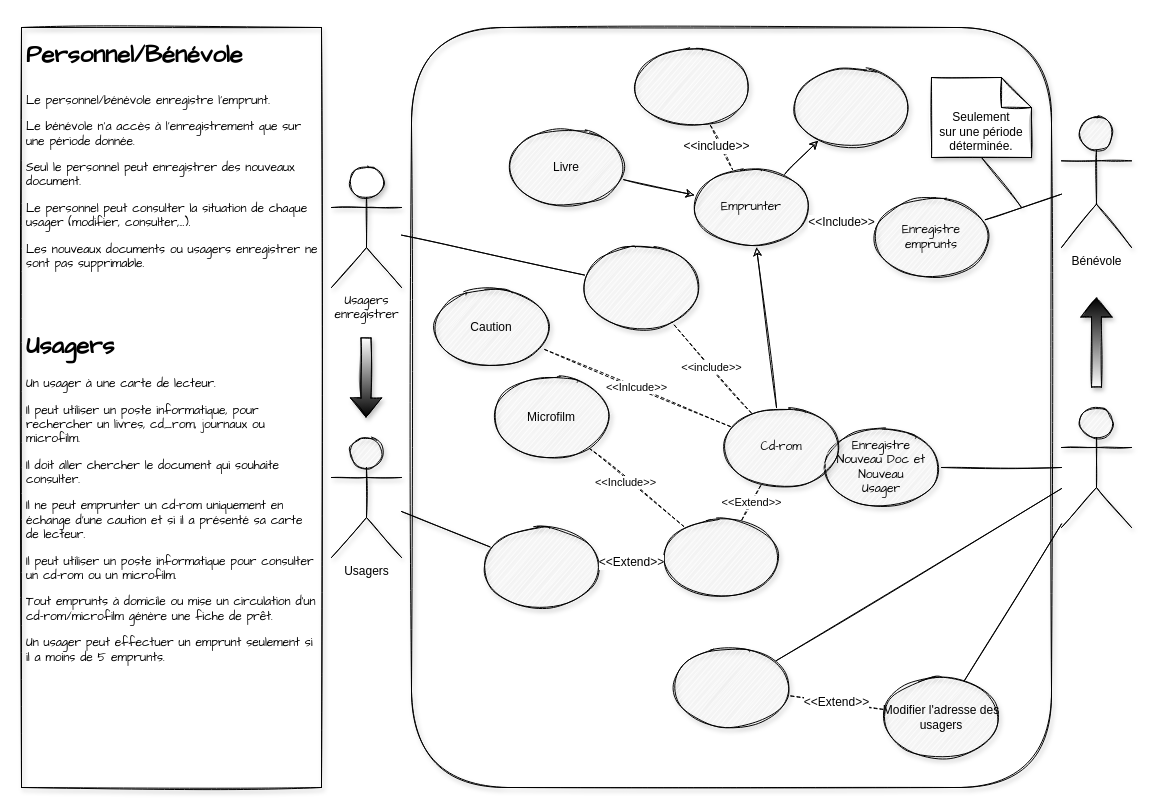
Image size: 1155x812. Some labels were removed from this diagram. The centre of each missing label's shape, as x and y in pixels:
Carte de lecteur: (642,288)
Chercher un document: (542,568)
Consulter la situation de chaque usagers: (732,688)
Lettre de relance si plus de 4 semaines d'emprunts: (852,108)
Moins de 5 emprunts: (692,88)
Personnel: (1097,468)
Poste Informatique libre: (722,558)
